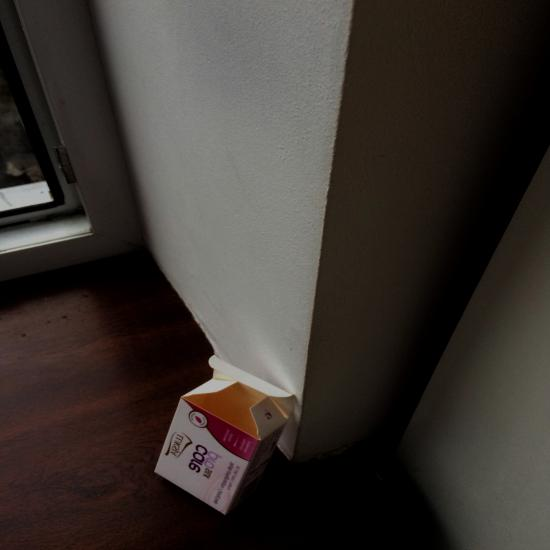Other carton: (154, 354, 293, 515)
